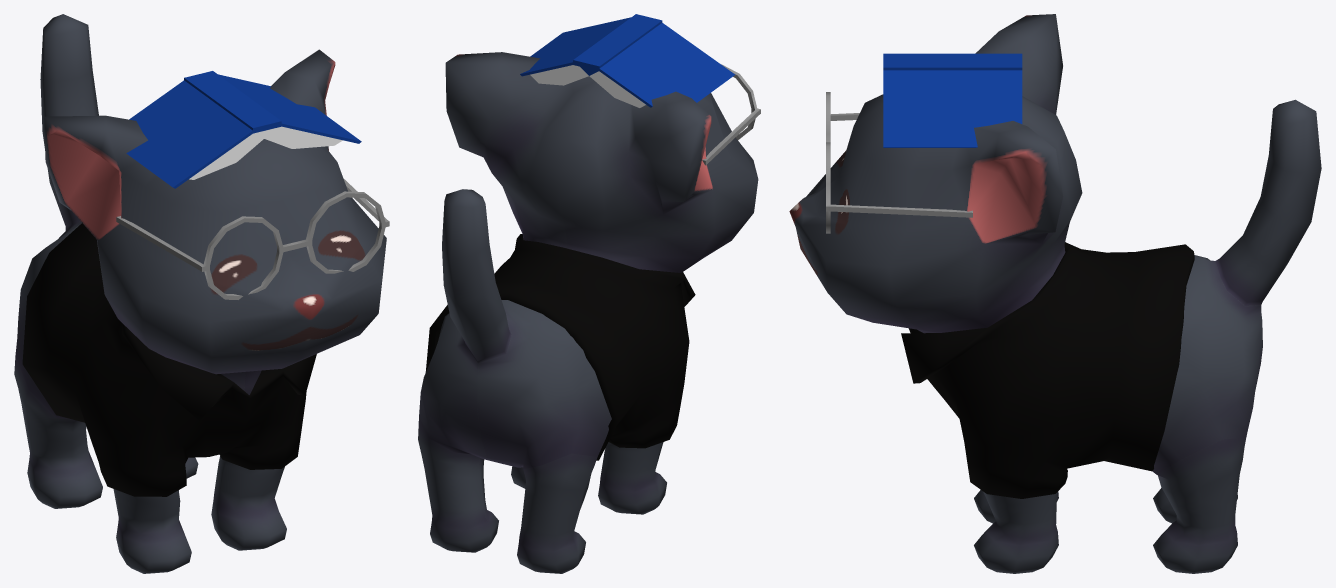
The model's file is Library Cat03.fbx.
3 views of the same model, side by side, from view 1: azimuth 30°, elevation 25°; view 2: azimuth 150°, elevation 25°; view 3: azimuth 270°, elevation 25° (orthographic). The views are drawn at different scales.
Parts seen in each view (by area): view 1: Cat_Base002, Library_Cat_Shirt, Library_Cat_BookHat, Library_Cat_Glasses; view 2: Cat_Base002, Library_Cat_Shirt, Library_Cat_BookHat, Library_Cat_Glasses; view 3: Cat_Base002, Library_Cat_Shirt, Library_Cat_BookHat, Library_Cat_Glasses.
Boxes of the visible parts, bbox=[...] form: Cat_Base002: bbox=[14, 14, 386, 573]; Library_Cat_Shirt: bbox=[22, 223, 316, 496]; Library_Cat_BookHat: bbox=[126, 71, 361, 188]; Library_Cat_Glasses: bbox=[116, 178, 389, 299]; Cat_Base002: bbox=[418, 52, 758, 573]; Library_Cat_Shirt: bbox=[425, 234, 695, 460]; Library_Cat_BookHat: bbox=[520, 14, 735, 107]; Library_Cat_Glasses: bbox=[702, 64, 760, 165]; Cat_Base002: bbox=[789, 14, 1321, 573]; Library_Cat_Shirt: bbox=[901, 242, 1194, 498]; Library_Cat_BookHat: bbox=[883, 53, 1022, 147]; Library_Cat_Glasses: bbox=[826, 92, 972, 233].
Bounding box in the file's own units: 1.75 × 2.83 × 2.81.
5 materials, 1 textured.
